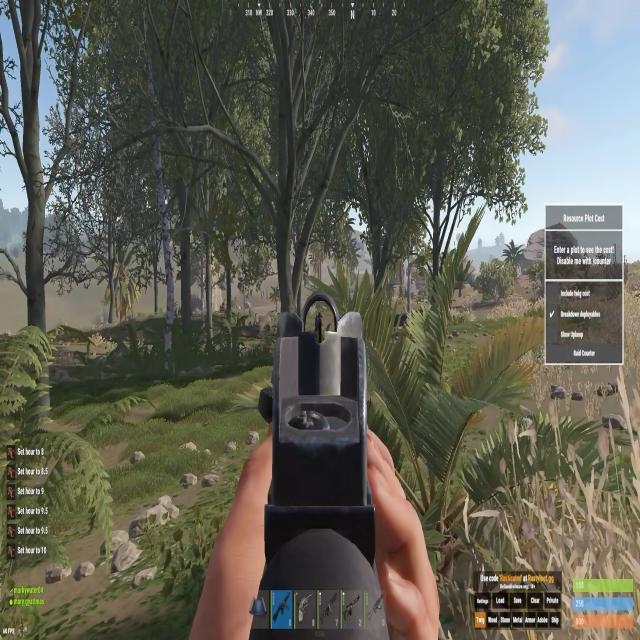Player: (314, 311, 322, 331)
